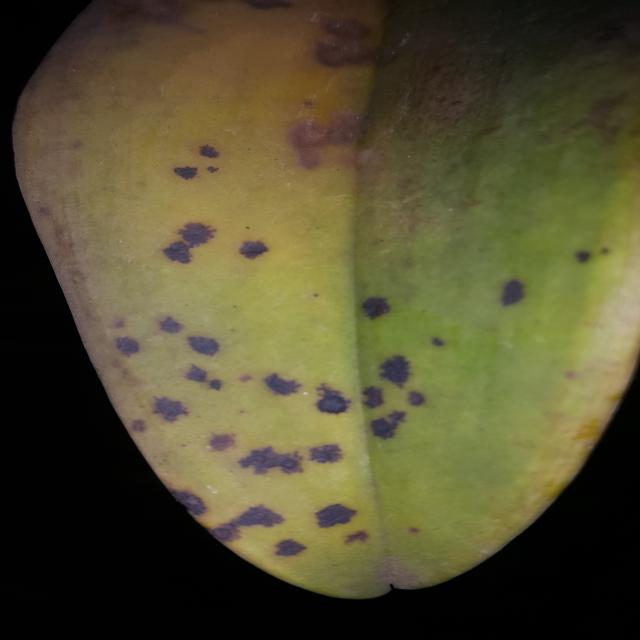mite: (350, 243, 614, 441), (356, 276, 532, 321), (314, 394, 349, 414), (360, 384, 386, 408), (567, 246, 596, 266), (423, 333, 450, 350), (404, 389, 427, 407), (572, 249, 591, 263), (429, 336, 446, 347)
sunburn: (12, 2, 636, 599)
